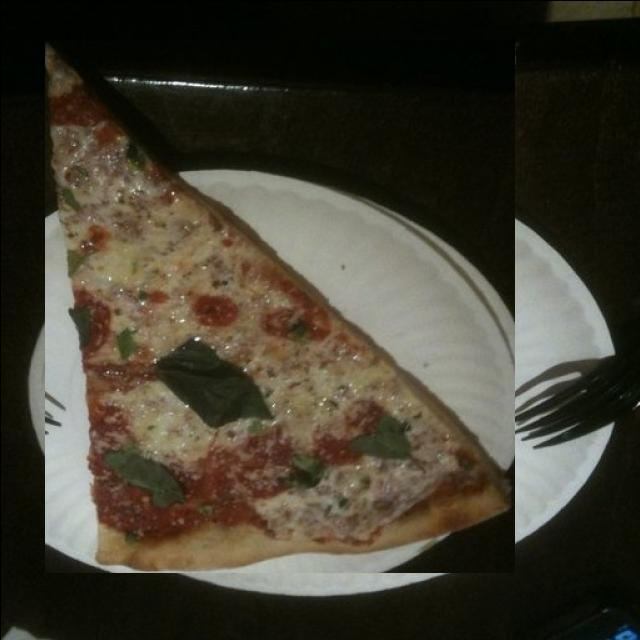basil: (283, 334, 404, 426), (372, 448, 454, 506)
pizza: (44, 39, 514, 572)
